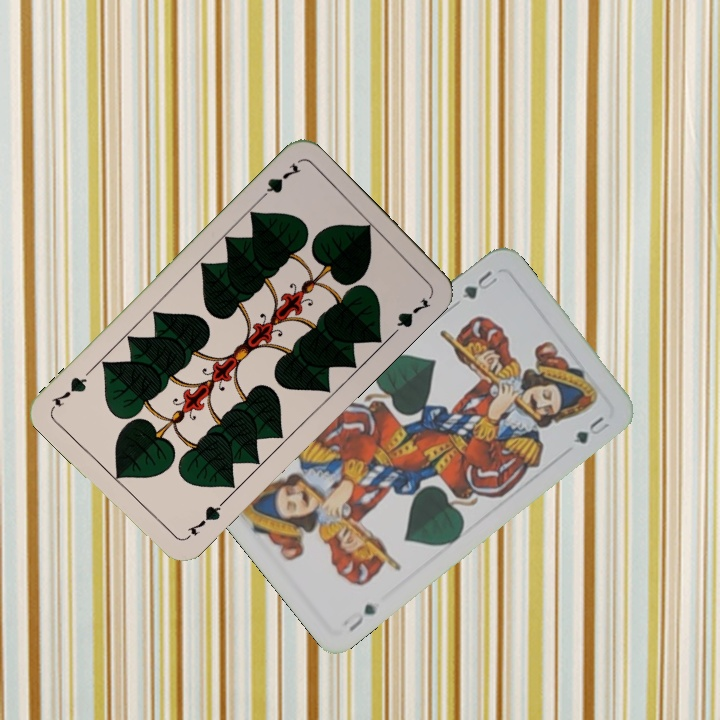G7: (254, 159, 303, 205), (181, 496, 228, 543)
GU: (458, 266, 500, 302), (344, 599, 379, 635)
